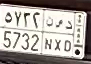2: (31, 11, 41, 51)
3: (21, 12, 31, 50)
5: (3, 12, 12, 48)
7: (12, 11, 22, 50)
D: (64, 20, 73, 52)
N: (44, 16, 54, 49)
X: (54, 19, 63, 51)
